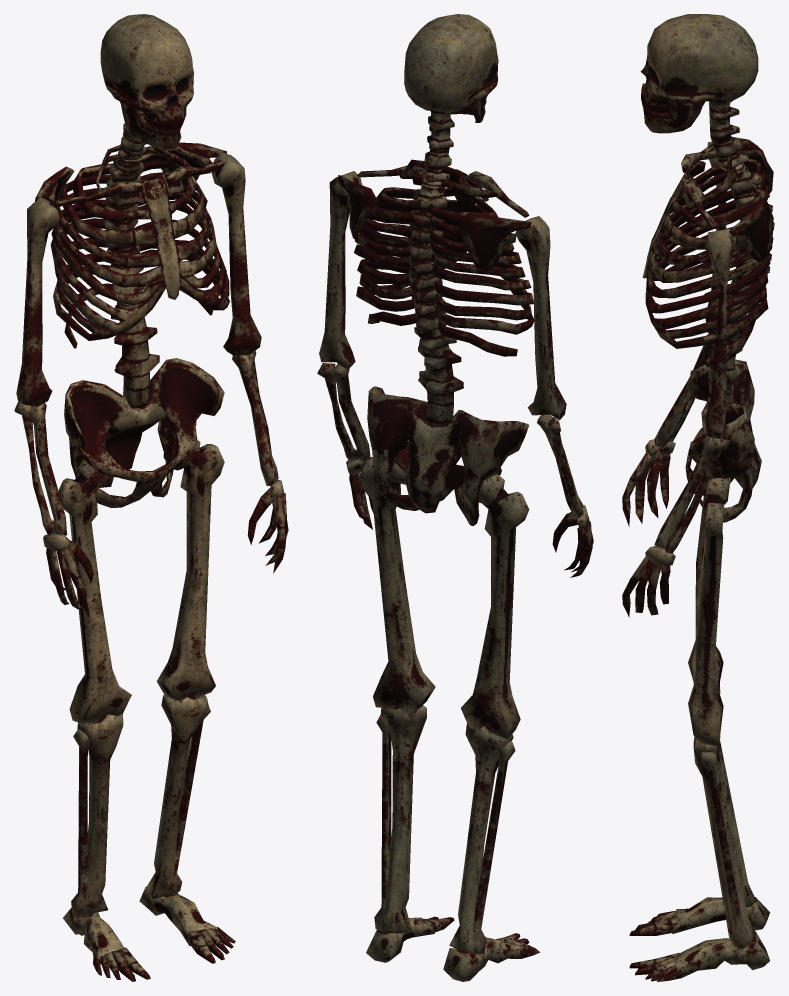
3 renders of one model, left to right at view 1: azimuth 30°, elevation 25°; view 2: azimuth 150°, elevation 25°; view 3: azimuth 270°, elevation 25°, orthographic.
Visible parts, largest first — view 1: chest, pelvis, skull, L_upperleg, R_upperleg, R_lowerleg, L_lowerleg, spine, R_upperarm, L_upperarm, R_lowerarm, L_foot (+6 smaller); view 2: chest, pelvis, R_upperleg, L_upperleg, skull, L_lowerleg, R_lowerleg, spine, R_upperarm, L_upperarm, neck, L_lowerarm (+5 smaller); view 3: chest, skull, L_upperleg, pelvis, L_lowerleg, L_foot, L_upperarm, L_lowerarm, R_foot, R_hand, neck, spine (+6 smaller).
Part boxes in pixels (<box>): chest: <box>35,142,229,348</box>; pelvis: <box>64,358,224,507</box>; skull: <box>100,14,193,130</box>; L_upperleg: <box>156,436,224,700</box>; R_upperleg: <box>58,459,131,723</box>; R_lowerleg: <box>71,713,123,918</box>; L_lowerleg: <box>145,694,210,899</box>; spine: <box>104,156,159,407</box>; R_upperarm: <box>16,197,59,406</box>; L_upperarm: <box>211,153,261,355</box>; R_lowerarm: <box>14,402,67,535</box>; L_foot: <box>139,886,235,963</box>; chest: <box>338,160,534,356</box>; pelvis: <box>367,386,529,525</box>; R_upperleg: <box>461,474,529,738</box>; L_upperleg: <box>359,448,435,713</box>; skull: <box>404,14,498,112</box>; L_lowerleg: <box>374,705,426,933</box>; R_lowerleg: <box>449,723,515,954</box>; spine: <box>408,178,463,426</box>; R_upperarm: <box>515,216,566,420</box>; L_upperarm: <box>319,171,362,369</box>; neck: <box>399,110,497,198</box>; L_lowerarm: <box>317,363,370,462</box>; chest: <box>642,137,773,367</box>; skull: <box>640,14,758,112</box>; L_upperleg: <box>688,477,730,745</box>; pelvis: <box>685,359,761,522</box>; L_lowerleg: <box>693,735,756,949</box>; L_foot: <box>629,931,769,981</box>; L_upperarm: <box>705,228,735,438</box>; L_lowerarm: <box>654,433,730,553</box>; R_foot: <box>629,897,770,935</box>; R_hand: <box>622,439,675,526</box>; neck: <box>699,101,749,203</box>; spine: <box>708,163,774,402</box>.
Size of the model in its own units: 50.14 by 184 by 27.2.
Materials: 1 (1 with a texture image).
